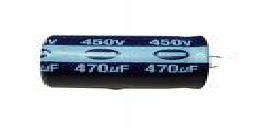Electrolytic-capacitor: (37, 33, 223, 93)
